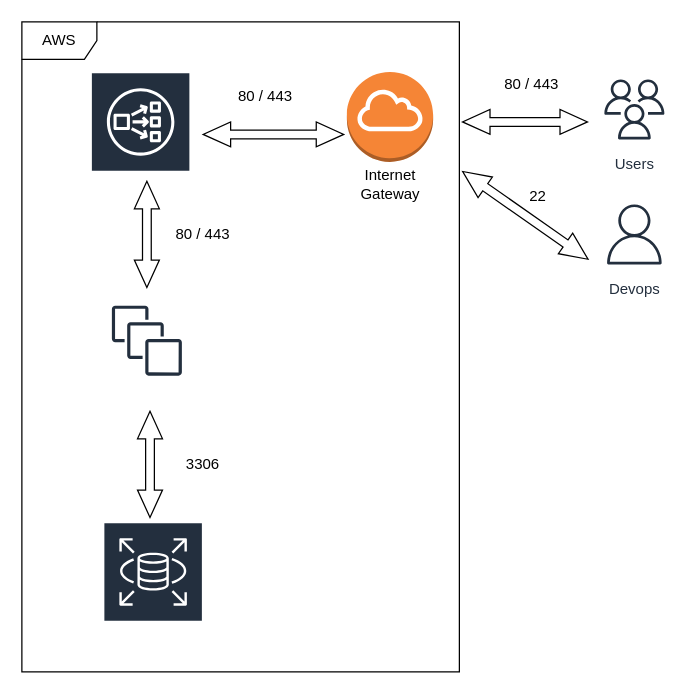
Some shapes in this 694 by 694 pixel diagram are drawn without their labels. The box of each missing label's shape, as (x1, y1, x2, y2) in pixels:
Amazon RDS: (102, 521, 203, 647)
App Server Instances: (102, 296, 191, 384)
